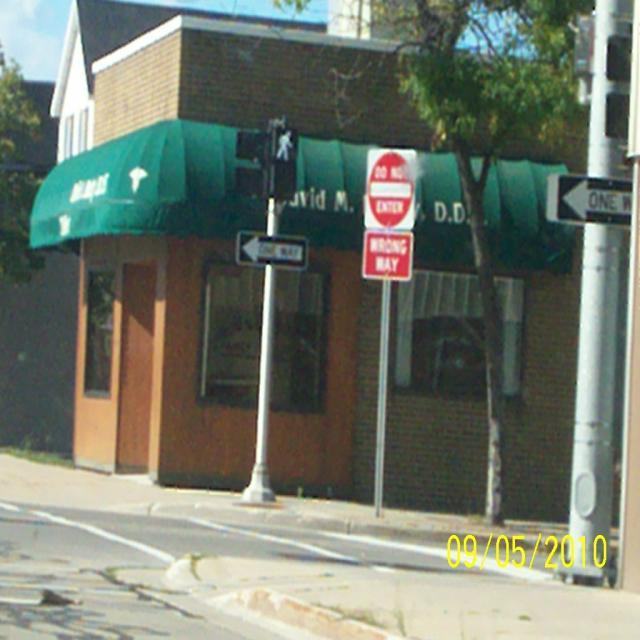traffic light: (269, 124, 299, 199)
